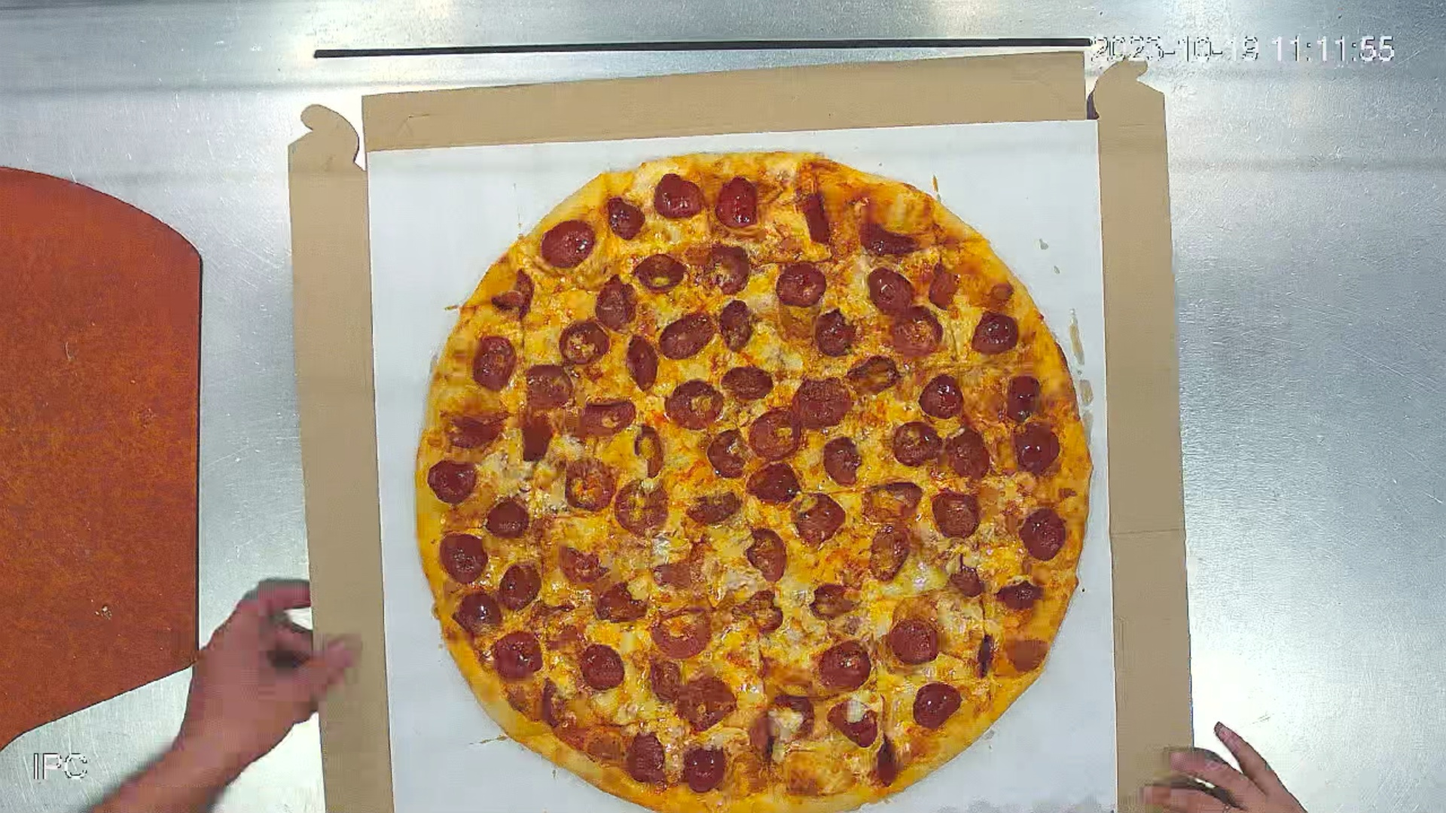pepperoni: (412, 147, 1098, 813)
